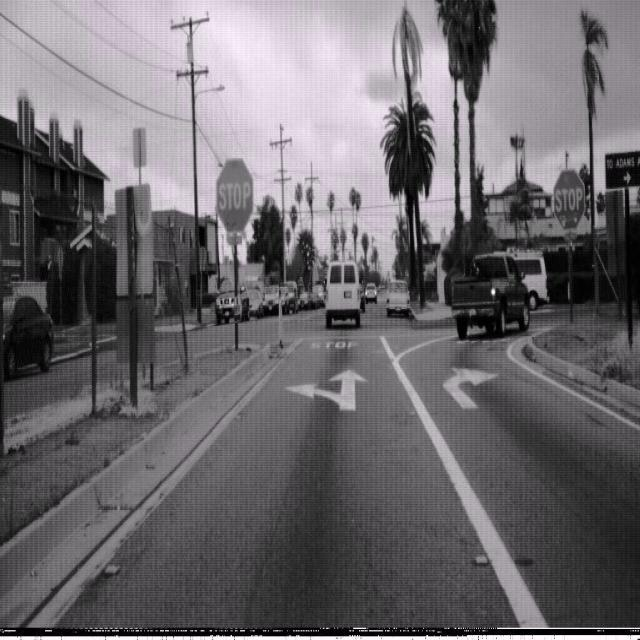stop_sign: (216, 157, 253, 233), (553, 168, 586, 230)
